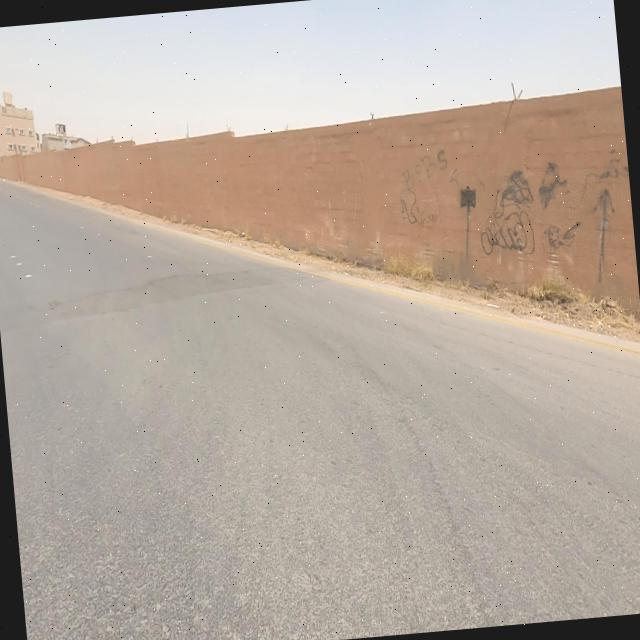Graffiti: (455, 146, 636, 275), (390, 148, 455, 232)
